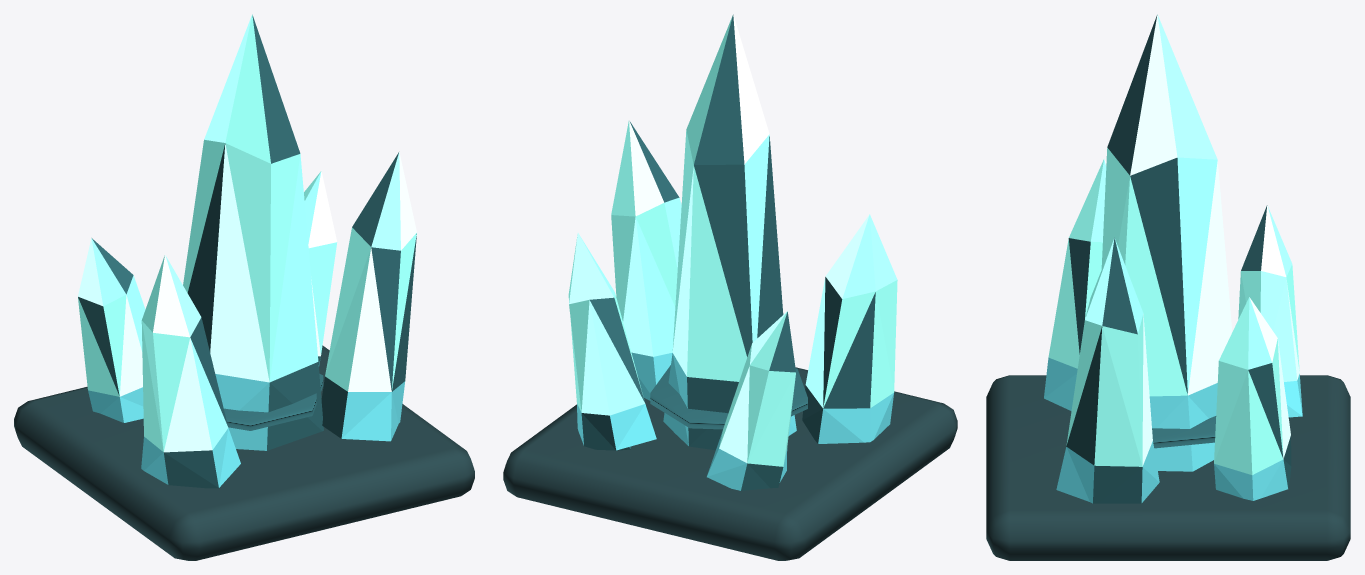
File: crystal-growth-spire.glb
3 views of the same model, side by side, from view 1: azimuth 30°, elevation 25°; view 2: azimuth 150°, elevation 25°; view 3: azimuth 270°, elevation 25° (orthographic). The views are drawn at different scales.
Parts seen in each view (by area): view 1: Crystal spire bed, Spire crystal, Spire crystal.002, Spire crystal.001, Spire crystal.003, Spire crystal.004, Spire dark fractured collar; view 2: Crystal spire bed, Spire crystal, Spire crystal.001, Spire crystal.002, Spire crystal.004, Spire crystal.003, Spire dark fractured collar; view 3: Crystal spire bed, Spire crystal, Spire crystal.002, Spire crystal.004, Spire crystal.001, Spire crystal.003, Spire dark fractured collar.
Part boxes in pixels (x1,y1,x2,y2): Crystal spire bed: [14, 345, 474, 560]; Spire crystal: [183, 14, 323, 450]; Spire crystal.002: [321, 152, 416, 441]; Spire crystal.001: [141, 255, 240, 488]; Spire crystal.003: [78, 238, 145, 422]; Spire crystal.004: [304, 171, 337, 366]; Spire dark fractured collar: [224, 373, 323, 430]; Crystal spire bed: [503, 367, 957, 560]; Spire crystal: [663, 14, 796, 450]; Spire crystal.001: [802, 214, 897, 443]; Spire crystal.002: [611, 120, 681, 400]; Spire crystal.004: [568, 233, 656, 450]; Spire crystal.003: [707, 311, 795, 490]; Spire dark fractured collar: [650, 365, 807, 429]; Crystal spire bed: [986, 375, 1350, 560]; Spire crystal: [1101, 14, 1232, 471]; Spire crystal.002: [1056, 238, 1159, 503]; Spire crystal.004: [1214, 297, 1291, 500]; Spire crystal.001: [1044, 159, 1106, 410]; Spire crystal.003: [1238, 205, 1302, 417]; Spire dark fractured collar: [1152, 416, 1216, 448].
Bounding box in the file's own units: 1.32 × 1.92 × 1.32.
